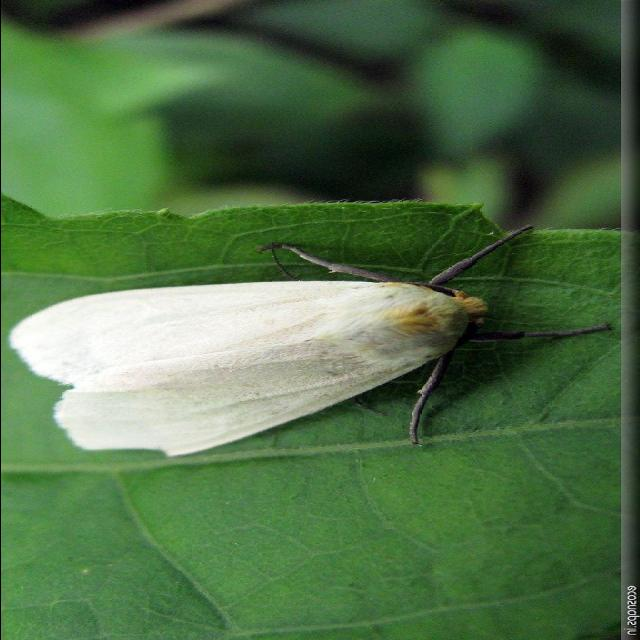whiteflies: (10, 221, 604, 460)
